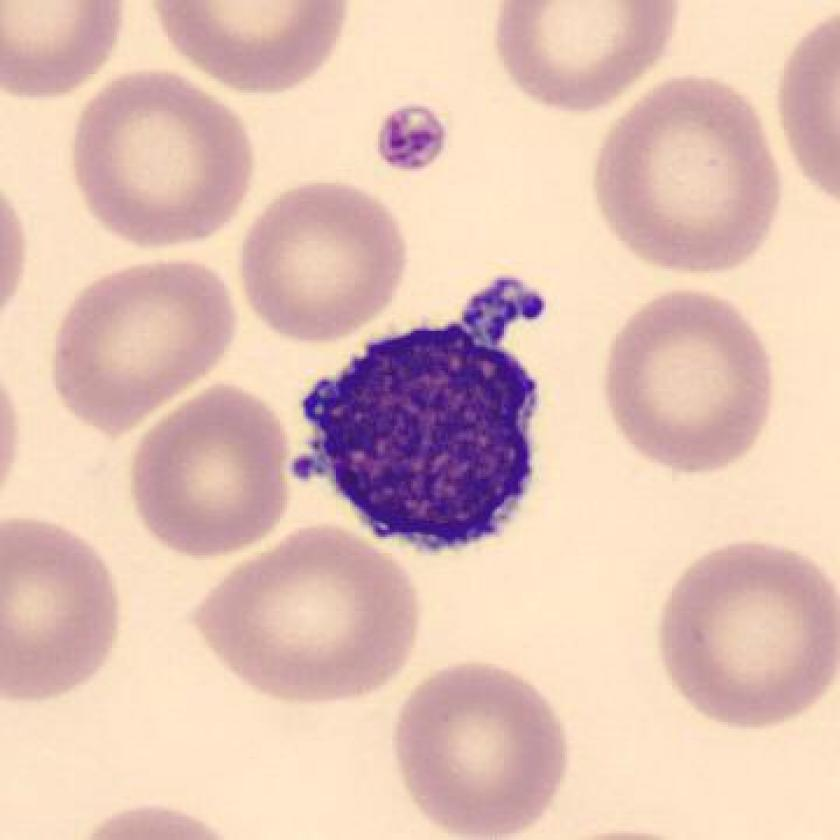lymphocyte: (274, 253, 570, 580)
